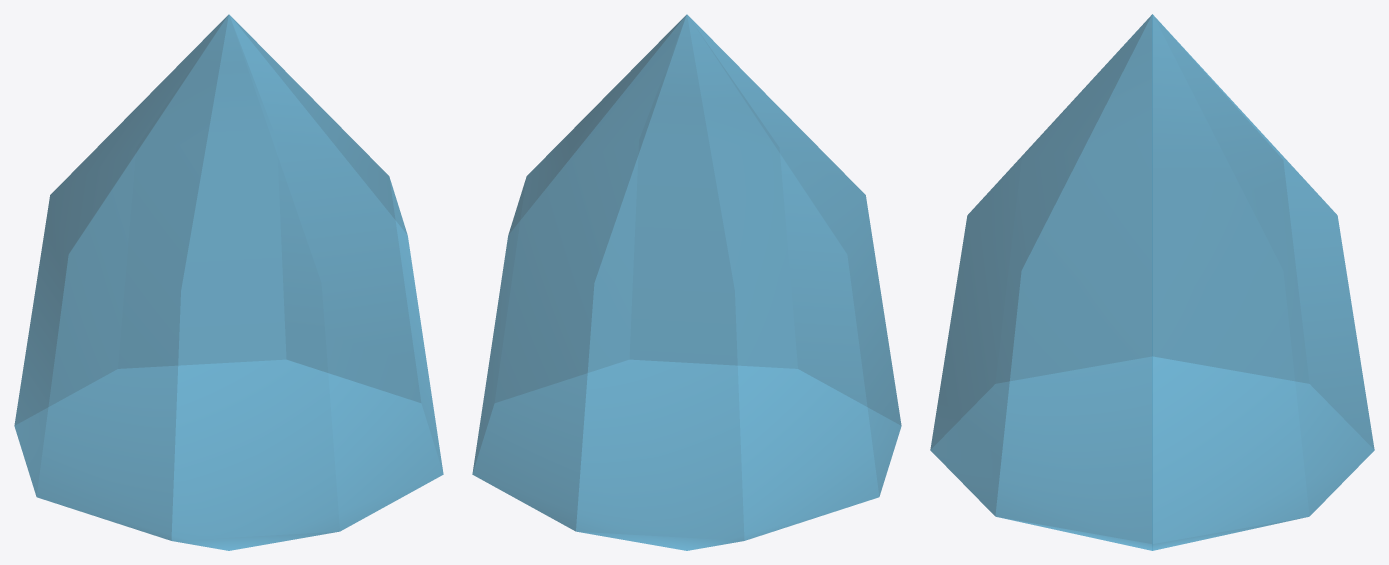
Rendered from fx_droplet.glb.
3 renders of one model, left to right at view 1: azimuth 30°, elevation 25°; view 2: azimuth 150°, elevation 25°; view 3: azimuth 270°, elevation 25°, orthographic.
Visible parts, largest first — view 1: SM_FxDroplet; view 2: SM_FxDroplet; view 3: SM_FxDroplet.
Part boxes in pixels (left/top/right/bottom): SM_FxDroplet: left=14, top=14, right=443, bottom=550; SM_FxDroplet: left=472, top=14, right=901, bottom=550; SM_FxDroplet: left=930, top=14, right=1374, bottom=550.
Bounding box in the file's own units: 0.06 × 0.08 × 0.06.
